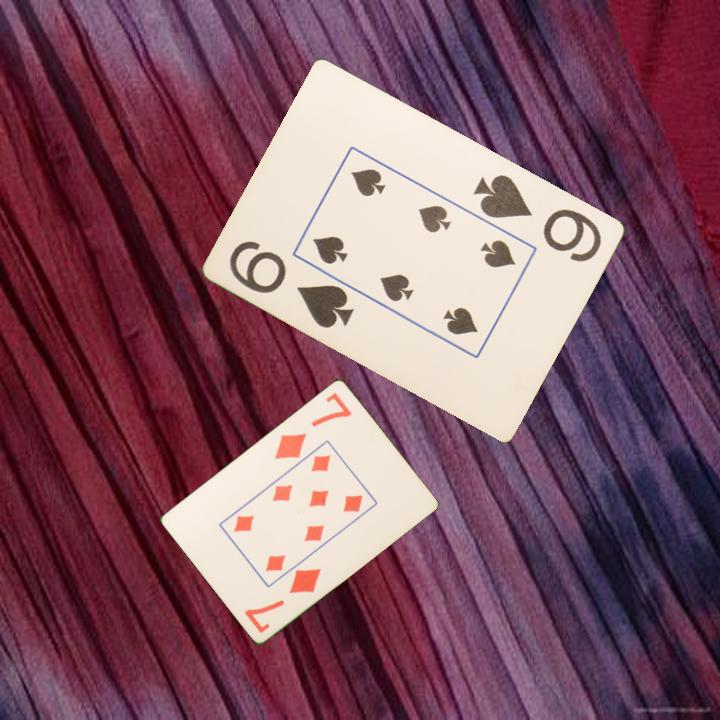6s: (470, 170, 606, 265), (225, 236, 358, 332)
7d: (271, 388, 355, 462), (241, 564, 324, 636)
